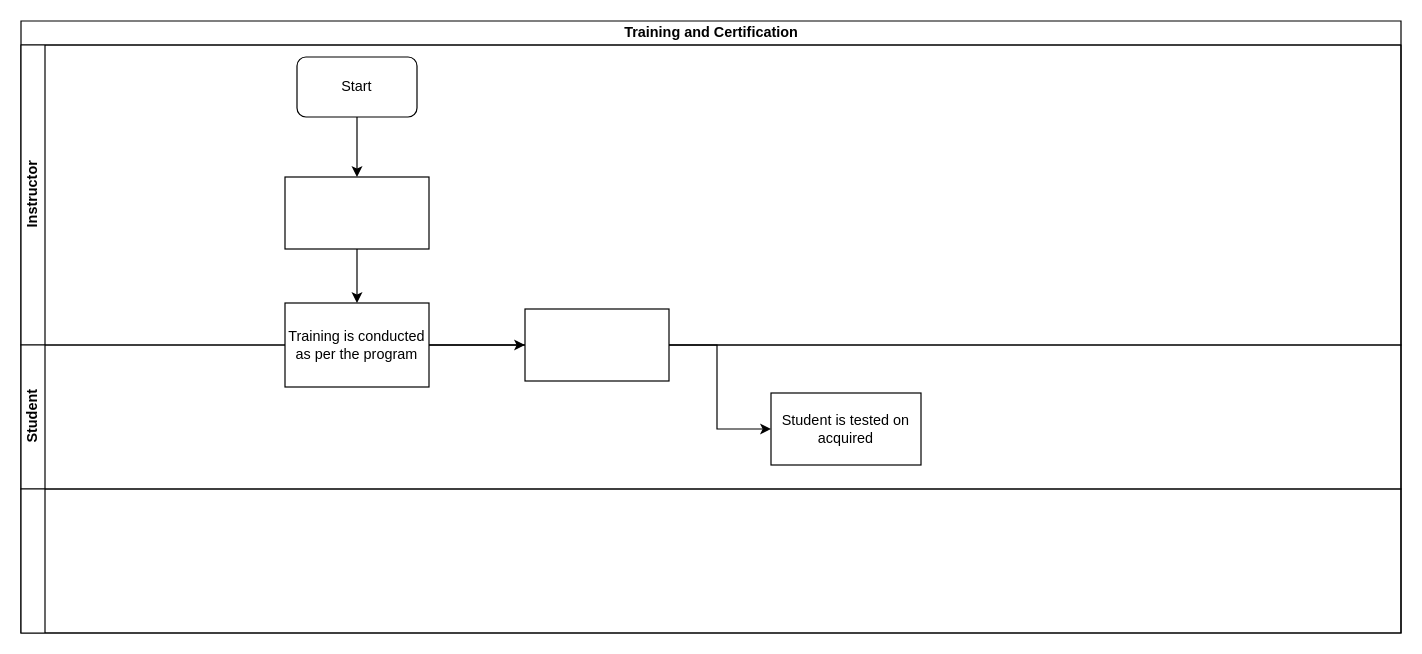
The diagram is 1422 pixels wide and 654 high, and some of its shapes have lost their labels. Each missing label, with the centre of its shape:
Issue student with a weekly training program: (356,212)
Lane 3: (710,560)
Training progress is captured in the system (class attendance log): (596,344)
